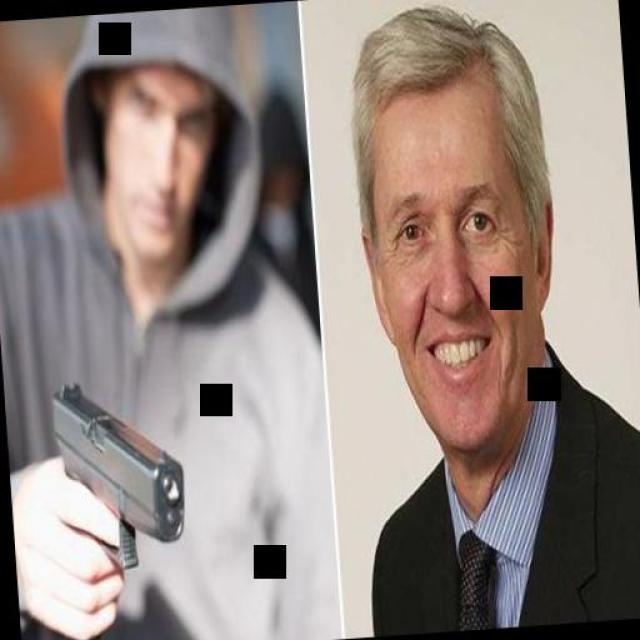gun: (45, 373, 190, 575)
